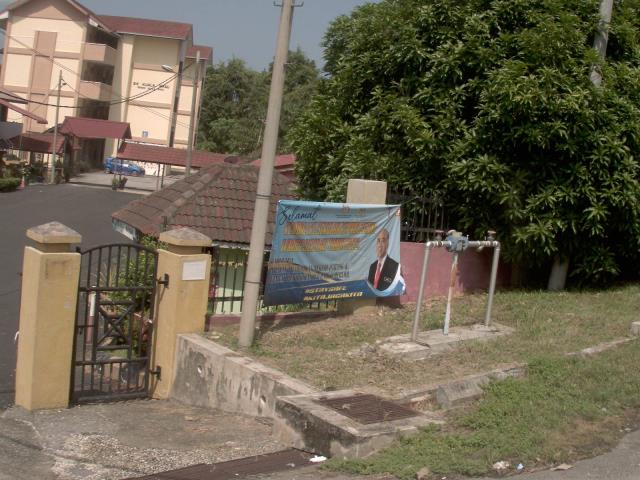ads_sign: (255, 192, 417, 316)
